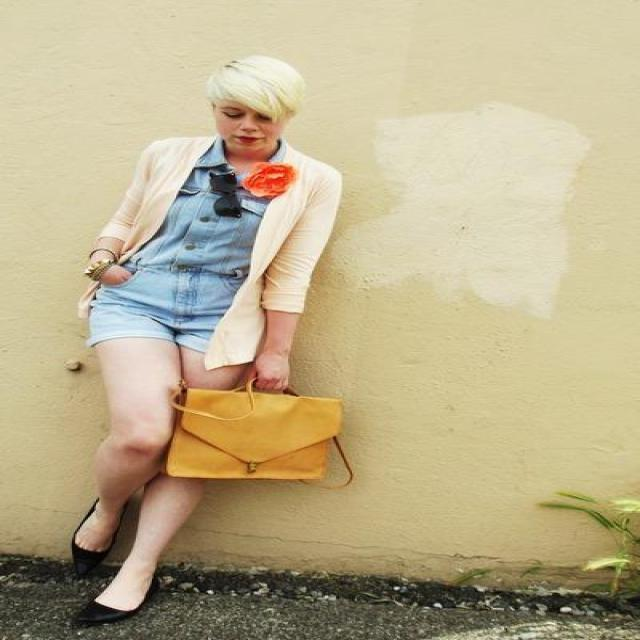bag: (166, 385, 341, 480)
jacket: (69, 136, 341, 330)
shirt: (91, 136, 283, 333)
shoe: (72, 591, 133, 626)
shorts: (86, 295, 260, 370)
